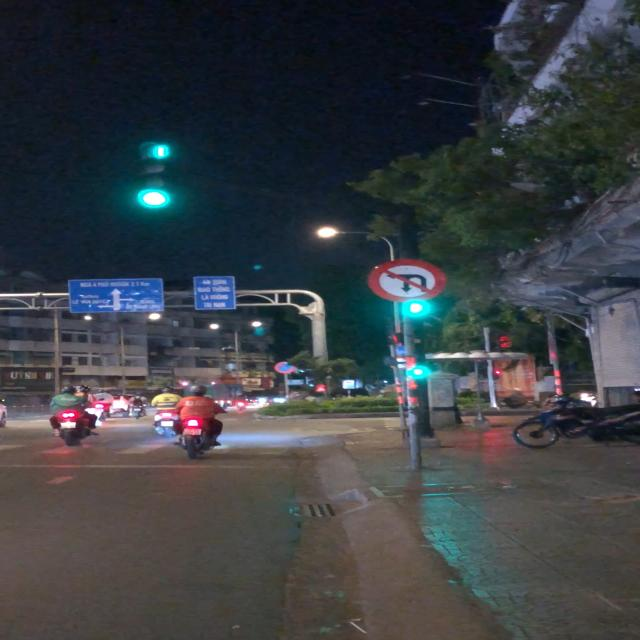Bien bao cam re trai va quay dau: (367, 259, 452, 304)
